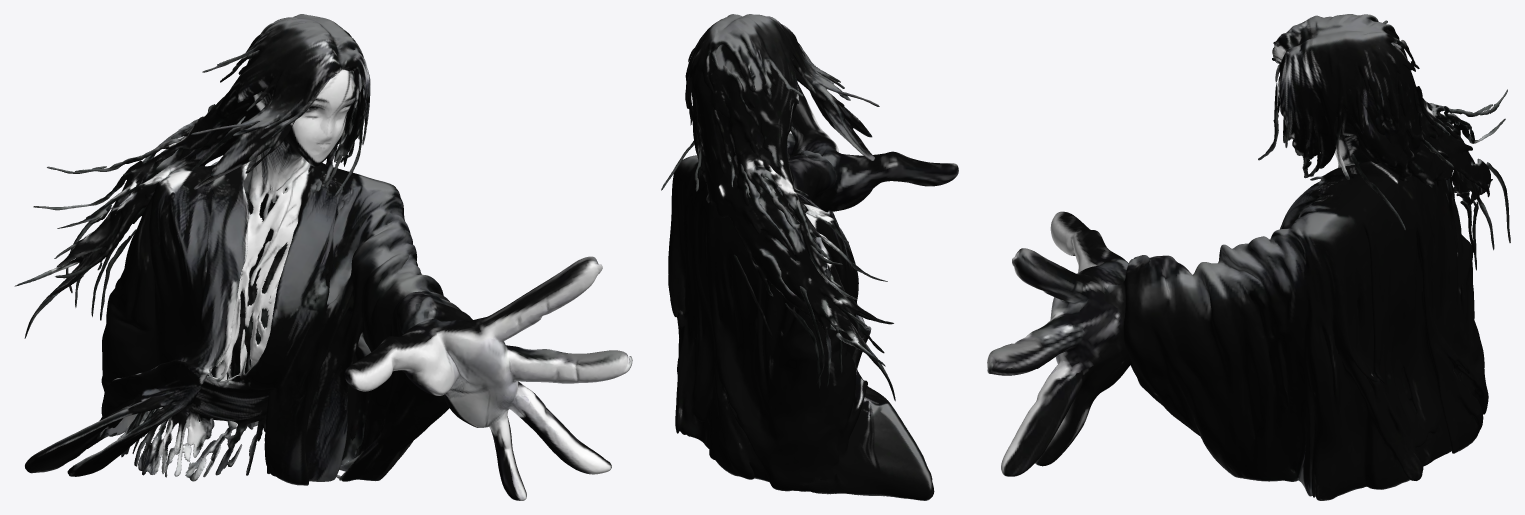
File: character-v2.min.glb
3 renders of one model, left to right at view 1: azimuth 30°, elevation 25°; view 2: azimuth 150°, elevation 25°; view 3: azimuth 270°, elevation 25°, orthographic. The views are drawn at different scales.
Visible parts, largest first — view 1: tripo_node_256e1a95-9543-41a4-a97d-0d859b907499; view 2: tripo_node_256e1a95-9543-41a4-a97d-0d859b907499; view 3: tripo_node_256e1a95-9543-41a4-a97d-0d859b907499.
Boxes of the visible parts, x1=… form: tripo_node_256e1a95-9543-41a4-a97d-0d859b907499: x1=14, y1=14, x2=632, y2=500; tripo_node_256e1a95-9543-41a4-a97d-0d859b907499: x1=661, y1=14, x2=958, y2=500; tripo_node_256e1a95-9543-41a4-a97d-0d859b907499: x1=987, y1=14, x2=1510, y2=500.
Bounding box in the file's own units: 0.9308 × 0.9474 × 1.
1 material, 1 textured.
